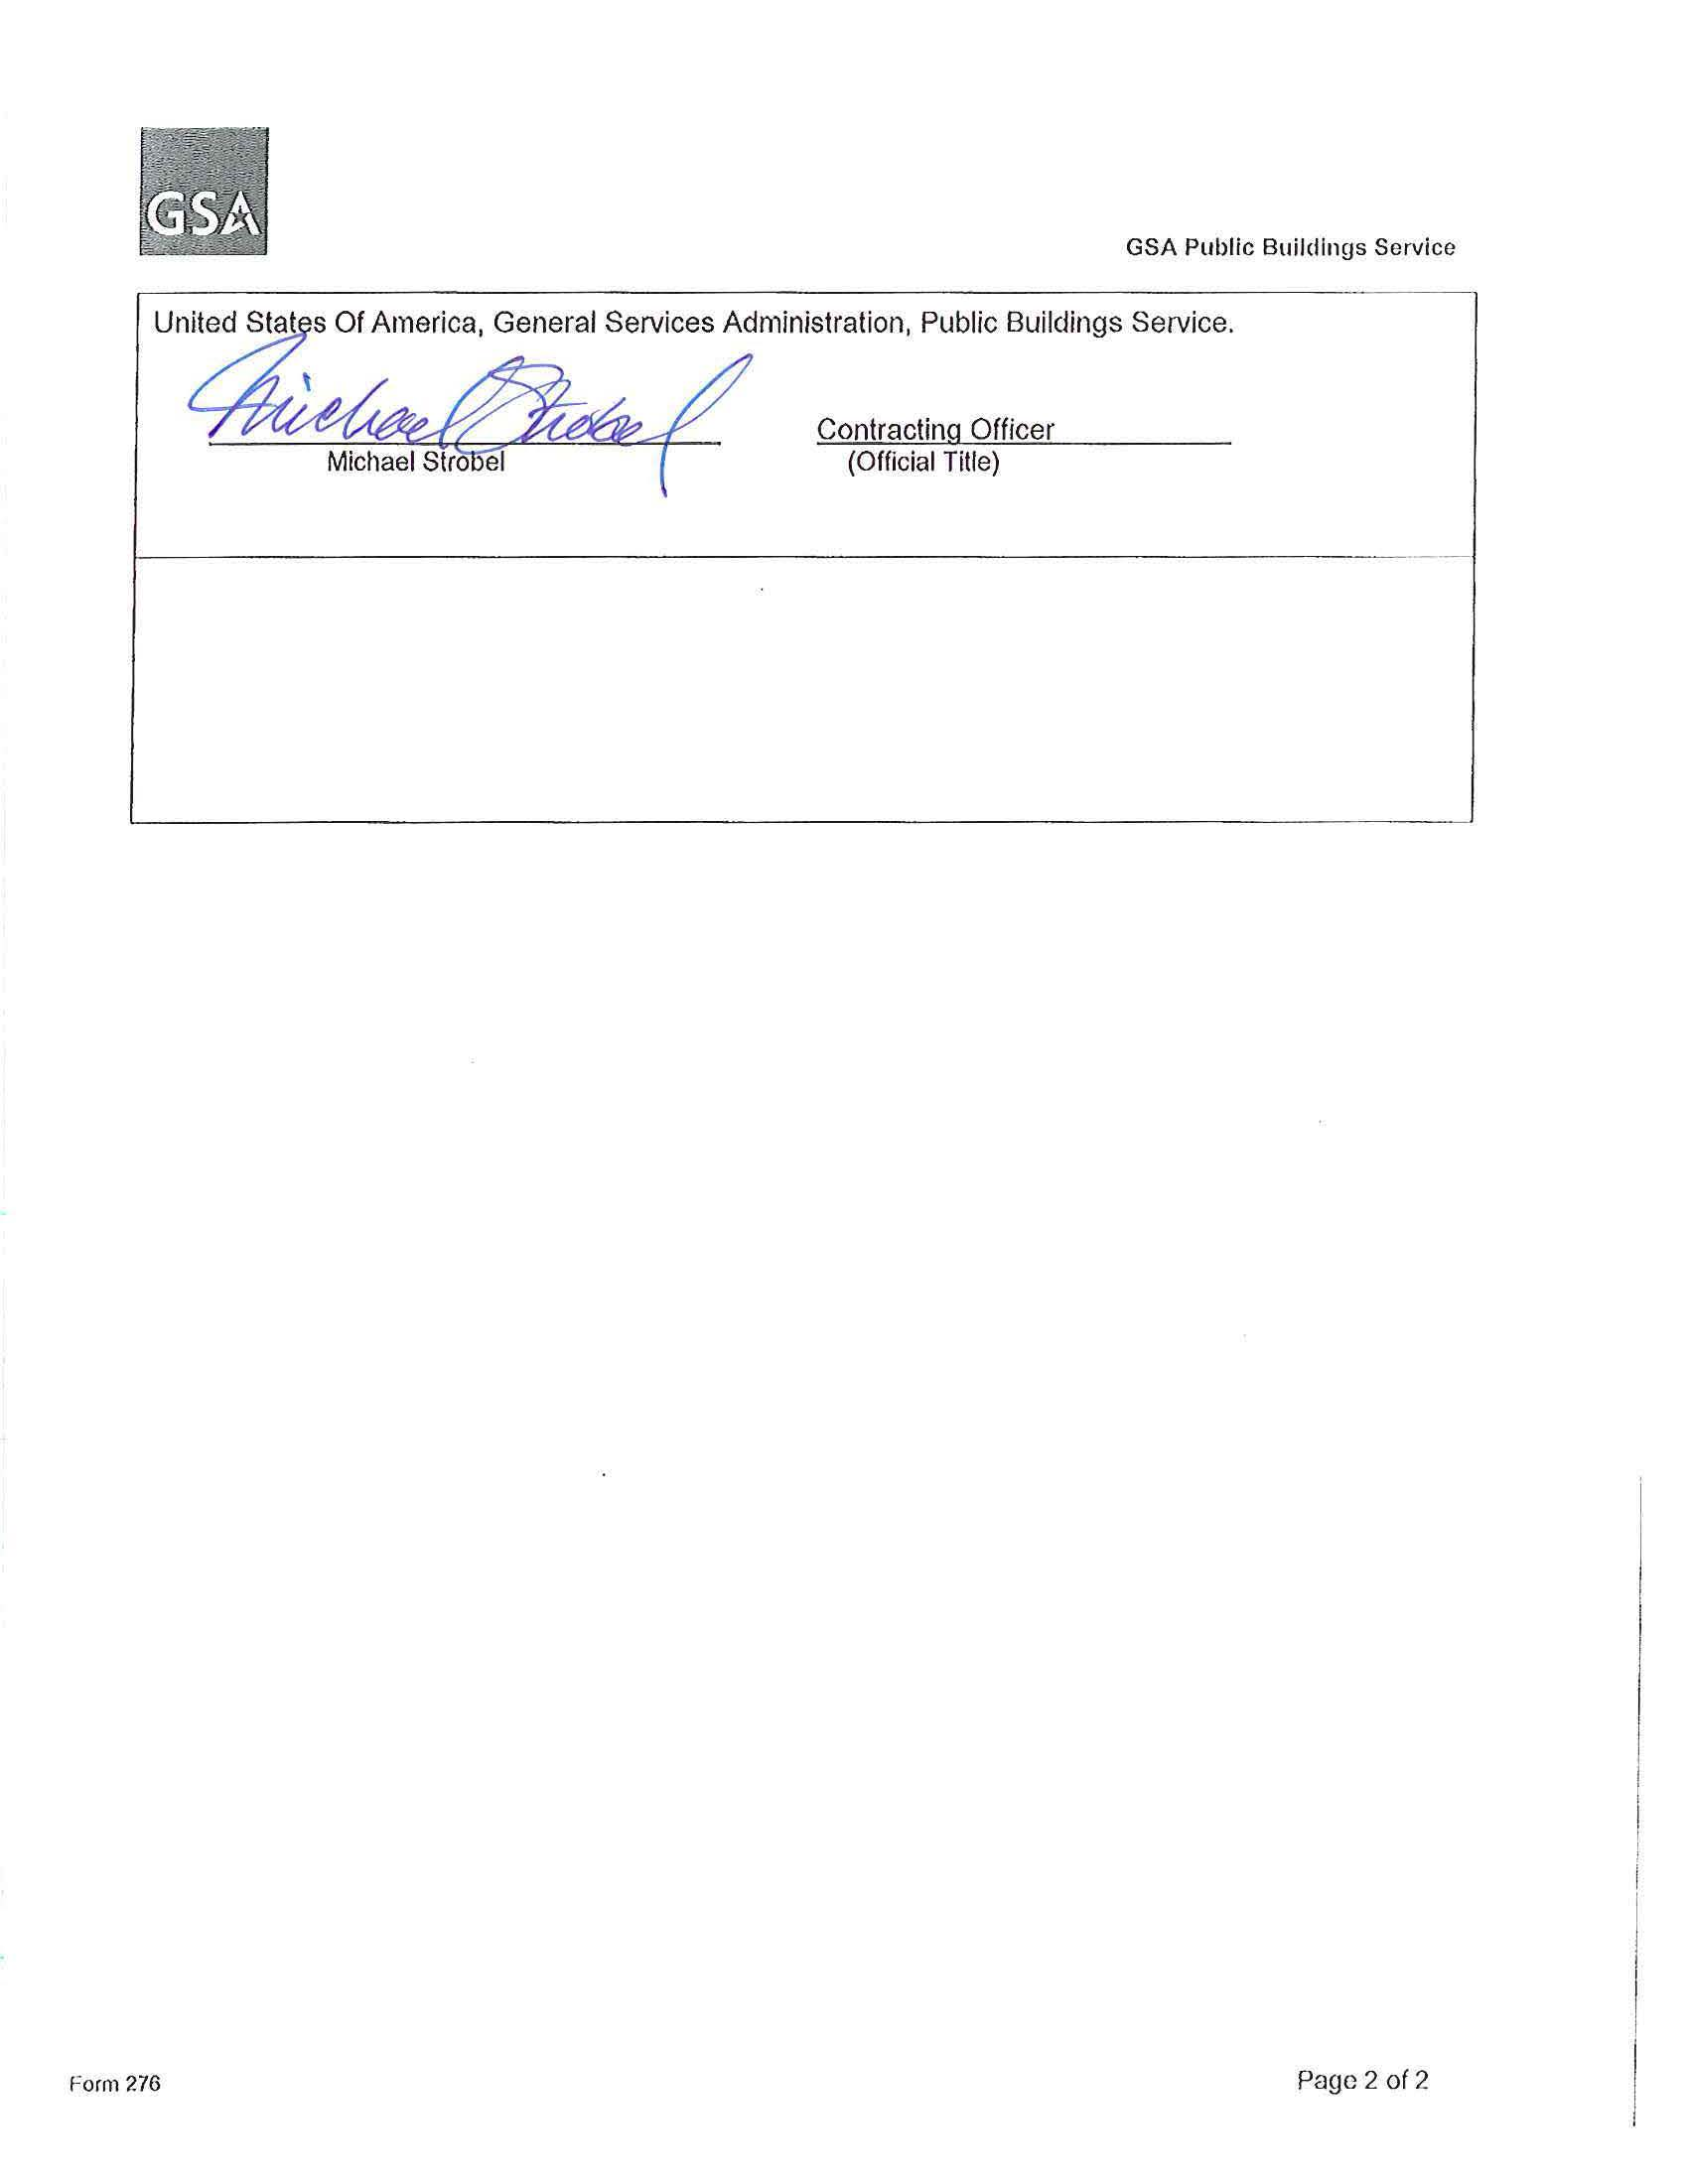handwritten: (176, 337, 771, 445)
